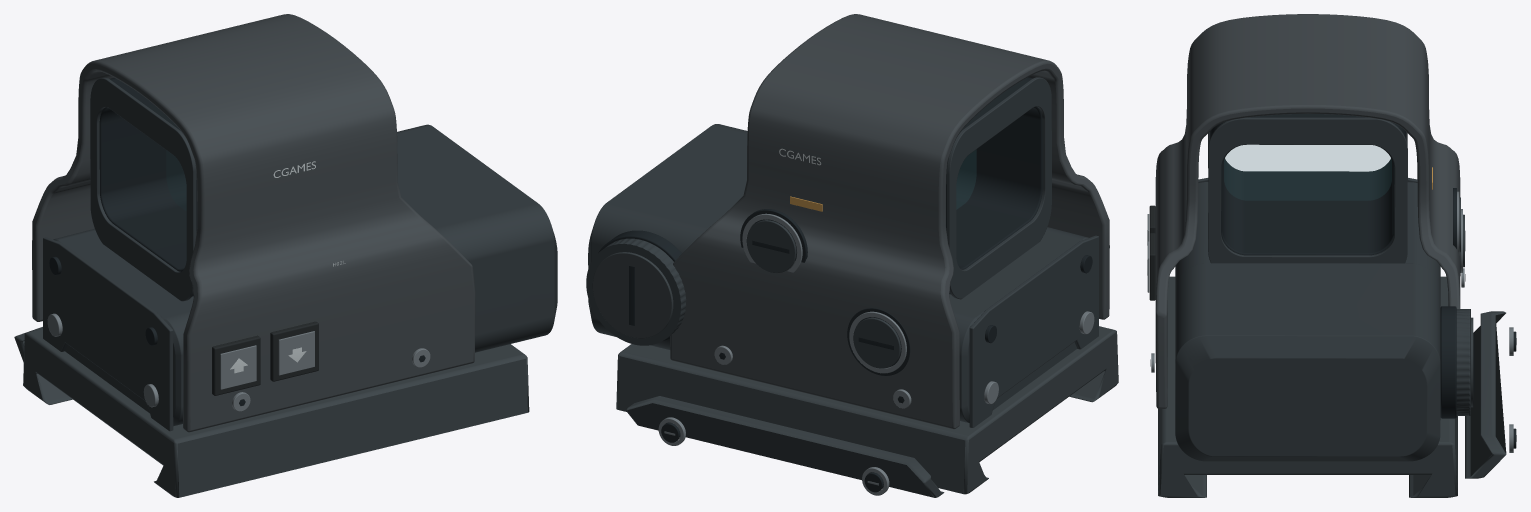
The model's file is H02L_Holo_Long_X50_Rail.glb.
3 renders of one model, left to right at view 1: azimuth 30°, elevation 25°; view 2: azimuth 150°, elevation 25°; view 3: azimuth 270°, elevation 25°, orthographic. The views are drawn at different scales.
Visible parts, largest first — view 1: 01 open protective U hood, 04 undercut adapter bridge, 02 rounded forward casing, 02 rear visible face plate, 03 inner window structural frame, 03 window rim rear, 05 left button face.001, 05 left button gasket.001, 05 left button face, 05 left button gasket, 03 transparent visual pane; view 2: 01 open protective U hood, 04 undercut adapter bridge, 02 rounded forward casing, 02 rear visible face plate, 03 inner window structural frame, 04 independent right side strip, 03 window rim rear, 05 front cap center, 05 front cap fine grip, 05 right inset disk, 05 right inset disk.001, 05 right satin disk edge.001 (+5 smaller); view 3: 02 rounded forward casing, 01 open protective U hood, 03 inner window structural frame, 03 window rim front, 04 undercut adapter bridge, 03 transparent visual pane, 04 independent right side strip, 05 front side cap seat, 05 front cap fine grip, 05 left button gasket.
Part boxes in pixels (x1,y1,x2,y2): 01 open protective U hood: (32,14,475,432); 04 undercut adapter bridge: (23,328,529,497); 02 rounded forward casing: (53,124,557,426); 02 rear visible face plate: (43,237,173,431); 03 inner window structural frame: (99,77,197,296); 03 window rim rear: (90,77,196,301); 05 left button face.001: (220,345,256,389); 05 left button gasket.001: (212,335,260,395); 05 left button face: (278,331,314,375); 05 left button gasket: (270,321,318,381); 03 transparent visual pane: (166,151,186,210); 01 open protective U hood: (670,14,1109,429); 04 undercut adapter bridge: (616,326,1118,494); 02 rounded forward casing: (588,124,1088,422); 02 rear visible face plate: (969,235,1098,427); 03 inner window structural frame: (946,77,1042,294); 04 independent right side strip: (626,396,944,497); 03 window rim rear: (946,77,1051,299); 05 front cap center: (592,252,673,338); 05 front cap fine grip: (586,238,686,345); 05 right inset disk: (746,220,796,273); 05 right inset disk.001: (853,317,900,368); 05 right satin disk edge.001: (849,311,906,373); 02 rounded forward casing: (1175,182,1440,461); 01 open protective U hood: (1155,14,1460,408); 03 inner window structural frame: (1210,114,1405,255); 03 window rim front: (1208,117,1407,263); 04 undercut adapter bridge: (1158,276,1457,497); 03 transparent visual pane: (1224,145,1391,200); 04 independent right side strip: (1465,311,1506,478); 05 front side cap seat: (1440,306,1456,418); 05 front cap fine grip: (1456,309,1470,415); 05 left button gasket: (1149,233,1155,300).
Size of the model in its own units: 0.0983 by 0.0825 by 0.0818.
